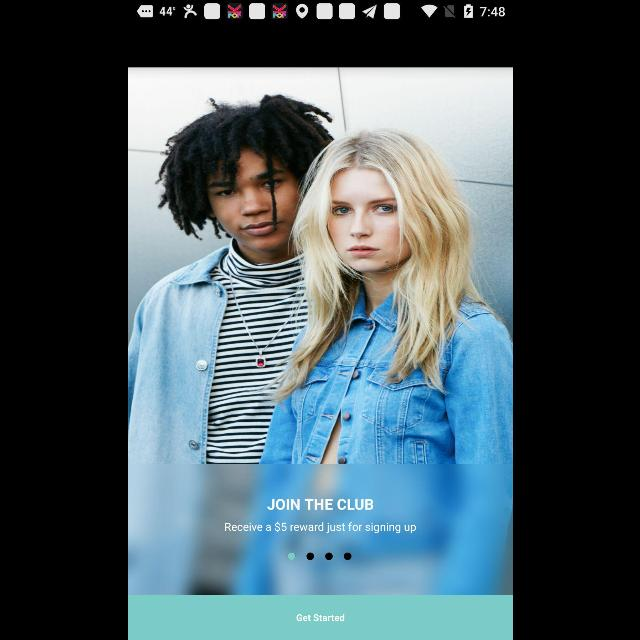image: (128, 68, 512, 594)
pageindicator: (286, 551, 352, 561)
text: (224, 522, 416, 534), (266, 499, 374, 511)
textbutton: (128, 596, 512, 640)
uppertaskbar: (128, 1, 512, 20)
